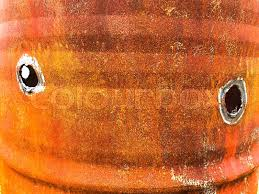rust: (1, 2, 259, 193)
